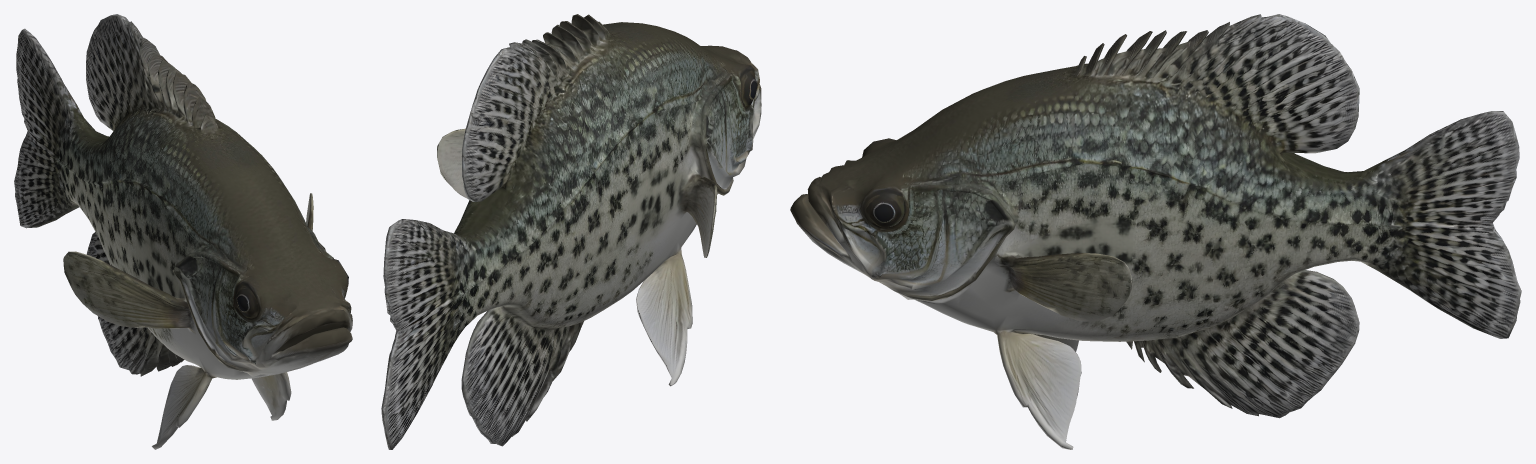
The model's file is fish-crappie.glb.
3 renders of one model, left to right at view 1: azimuth 30°, elevation 25°; view 2: azimuth 150°, elevation 25°; view 3: azimuth 270°, elevation 25°, orthographic. The views are drawn at different scales.
Parts seen in each view (by area): view 1: tripo_node_f5f617d2-d16c-42ee-9455-8720fe4c7b8e; view 2: tripo_node_f5f617d2-d16c-42ee-9455-8720fe4c7b8e; view 3: tripo_node_f5f617d2-d16c-42ee-9455-8720fe4c7b8e.
Part boxes in pixels (x1,y1,x2,y2): tripo_node_f5f617d2-d16c-42ee-9455-8720fe4c7b8e: (14,14,352,449); tripo_node_f5f617d2-d16c-42ee-9455-8720fe4c7b8e: (381,14,761,449); tripo_node_f5f617d2-d16c-42ee-9455-8720fe4c7b8e: (790,14,1521,449).
Bounding box in the file's own units: 0.2202 × 0.3 × 0.4934.
Materials: 1 (1 with a texture image).
